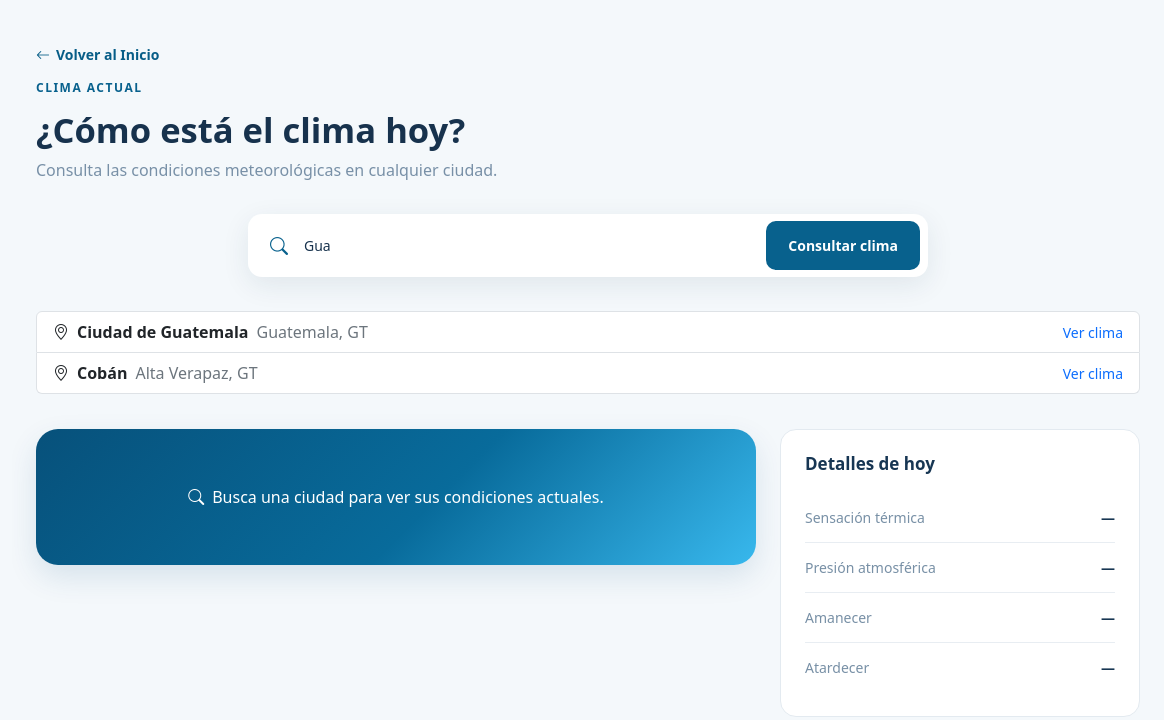
Test: M04 – clima actual › con varios resultados deja elegir la ubicación
Click the text "Cobán".
click(102, 374)  # box [77,362,127,384]
(page scrolled)
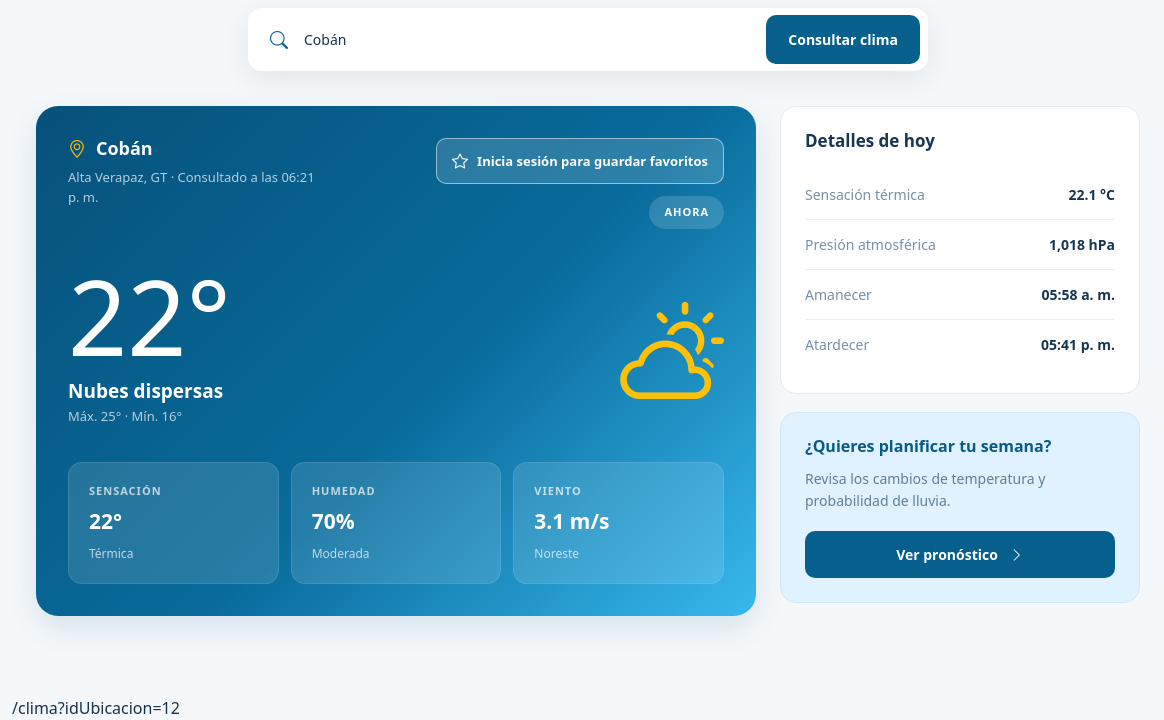
Check: the heading "Cobán" is shown, box [68,136,153,160]
Check: the text with test id "ruta" reads "/clima?idUbicacion=12", box [12,697,180,719]
